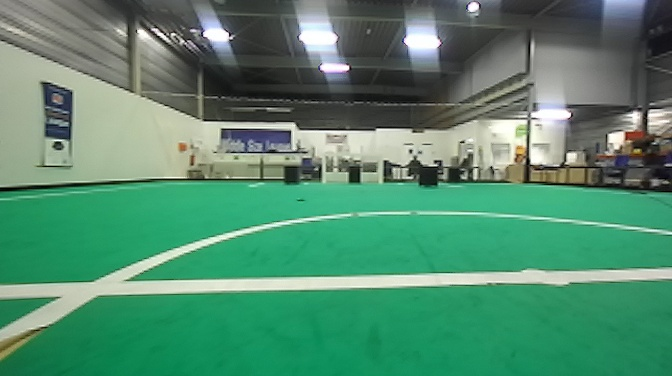goalpost: (317, 149, 325, 181), (376, 151, 383, 183)
